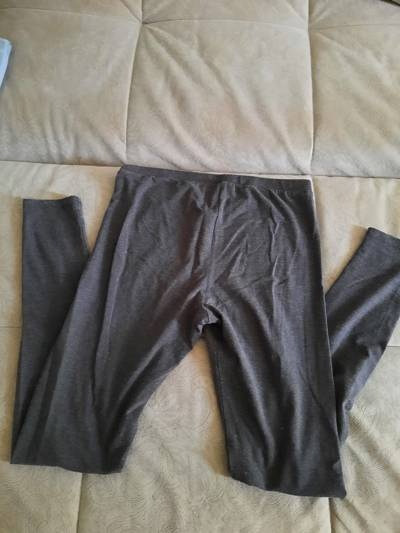Pants: (0, 140, 397, 498)
